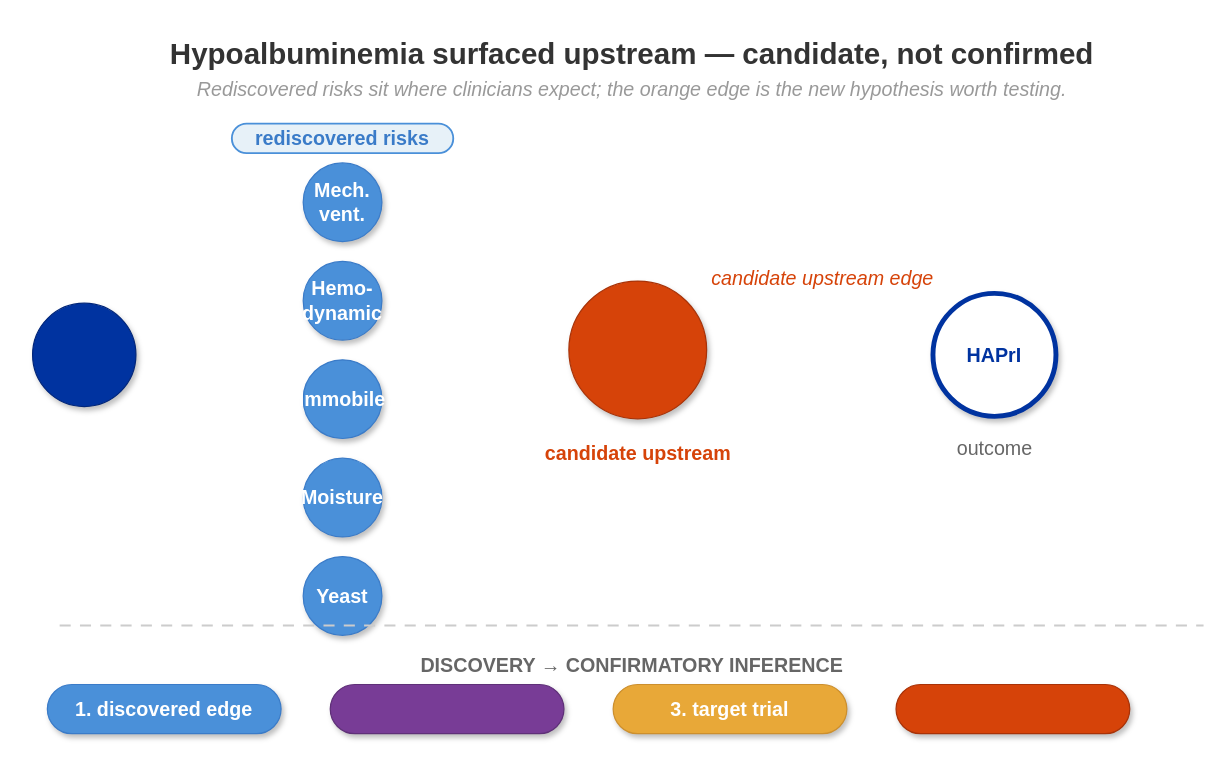
This 1228x764 diagram has some shape labels left out. The shapes that lost their labels are listed below. From the top down, each one's centre as x and y in pixels, then its label:
the point at 84,356: Critical illness
the point at 638,351: Hypo- albuminemia
the point at 447,710: 2. clinician review
the point at 1013,710: 4. TMLE / g-methods
